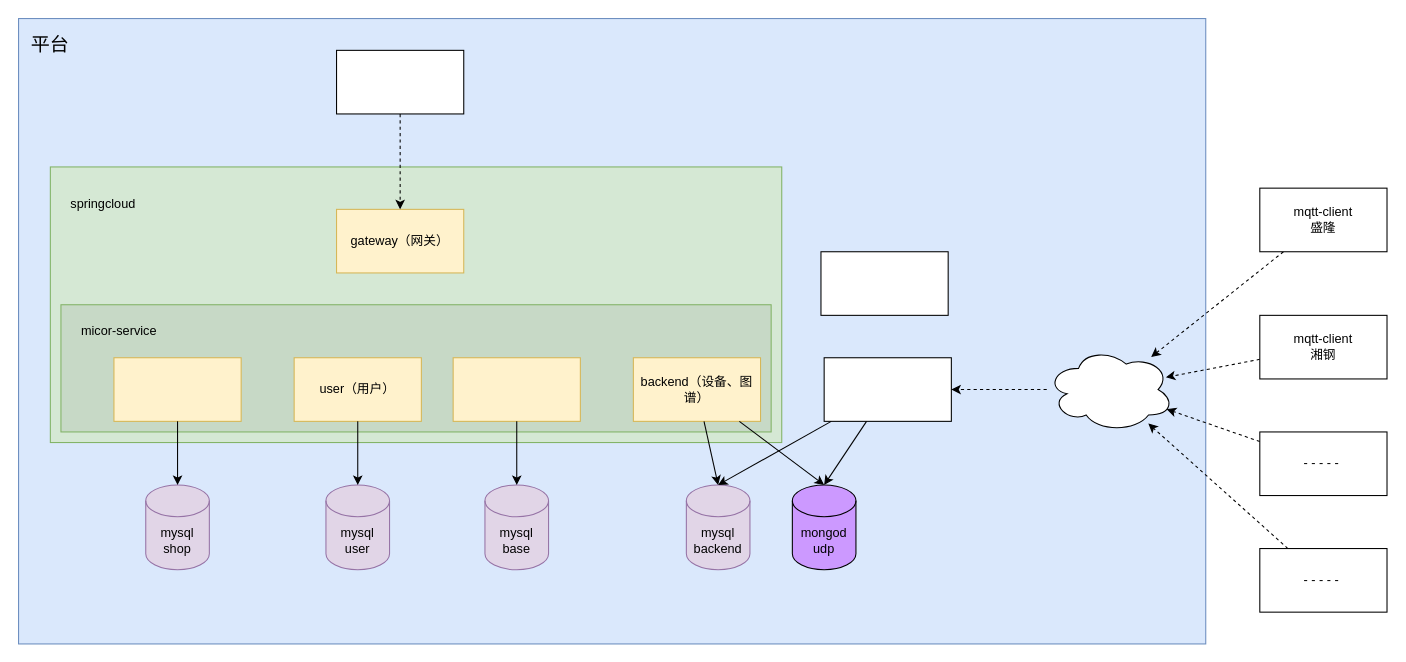
The diagram is 1406 pixels wide and 662 high, and some of its shapes have lost their labels. The shapes that lost their labels are listed below. From the top down, each one's centre as x and y in pixels, then its label:
At point (399, 81): "nginx（代理）".
At point (884, 283): "python（算法）".
At point (177, 389): "shop（商城）".
At point (516, 389): "base（基础）".
At point (887, 389): "mqtt（数据采集）".
At point (1110, 389): "mqtt-server".
